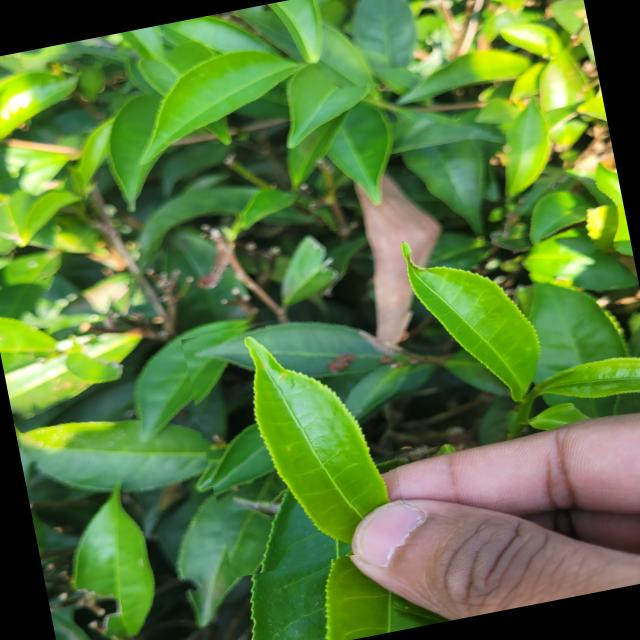Catagory A(1-2 days): (180, 296, 412, 580)
